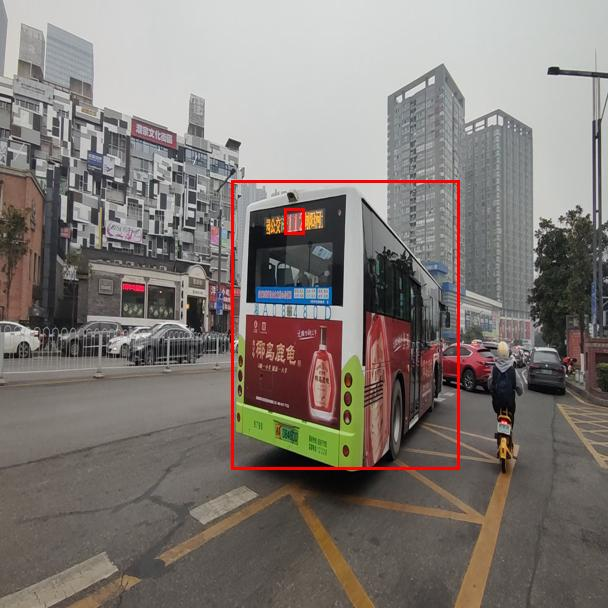bus: (231, 180, 459, 469)
screen: (284, 208, 304, 234)
